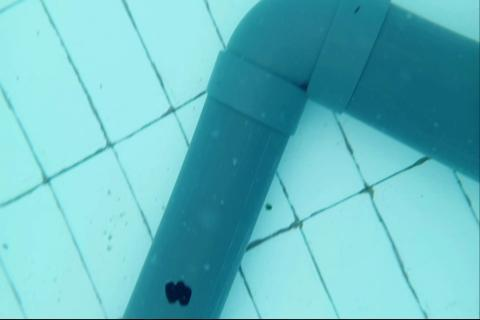kebocoran: (163, 279, 192, 307)
